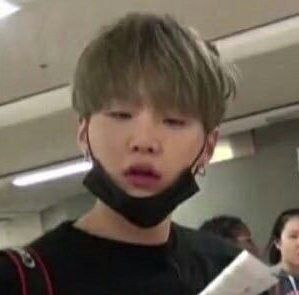mask_weared_incorrect: (89, 107, 208, 220)
without_mask: (285, 228, 299, 271)
